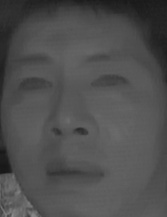eye: (86, 70, 132, 94), (15, 75, 55, 98)
mouth: (36, 154, 104, 191)
